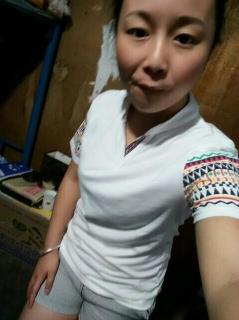short sleeve top: (59, 89, 239, 310)
shorts: (32, 239, 160, 319)
